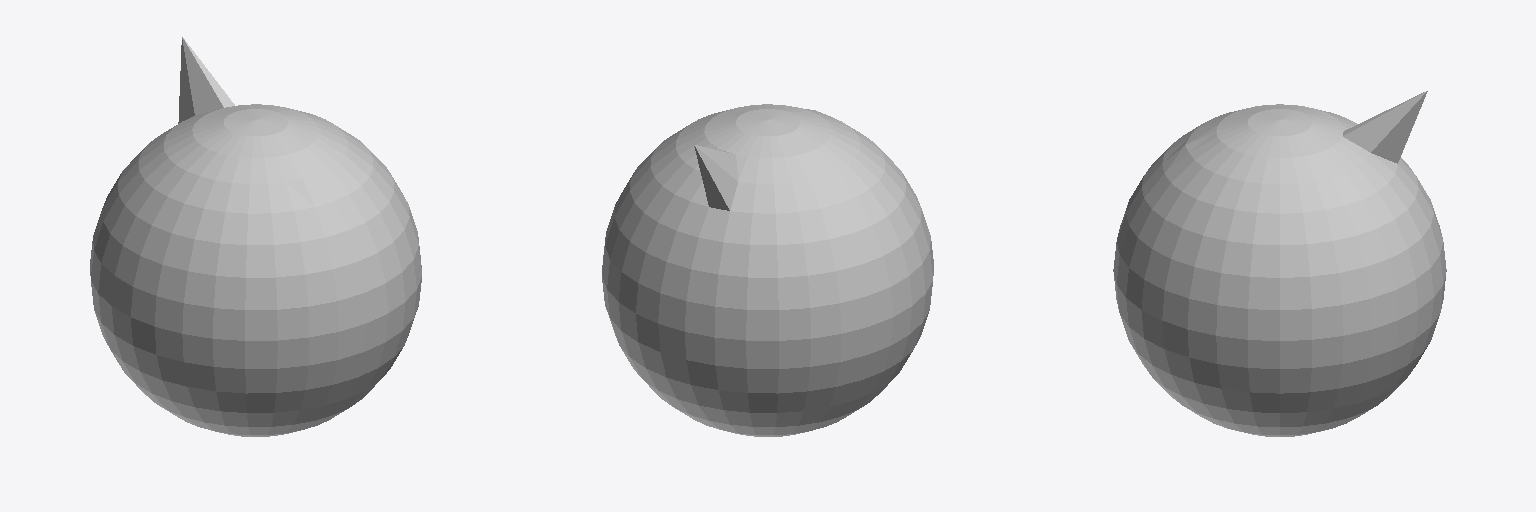
Rendered from Player2.obj.
3 renders of one model, left to right at view 1: azimuth 30°, elevation 25°; view 2: azimuth 150°, elevation 25°; view 3: azimuth 270°, elevation 25°, orthographic.
Visible parts, largest first — view 1: 球; view 2: 球; view 3: 球.
Part boxes in pixels (bbox=[...]): 球: bbox=[90, 37, 421, 436]; 球: bbox=[602, 104, 933, 436]; 球: bbox=[1113, 91, 1446, 436].
Size of the model in its own units: 2 by 2.2 by 2.